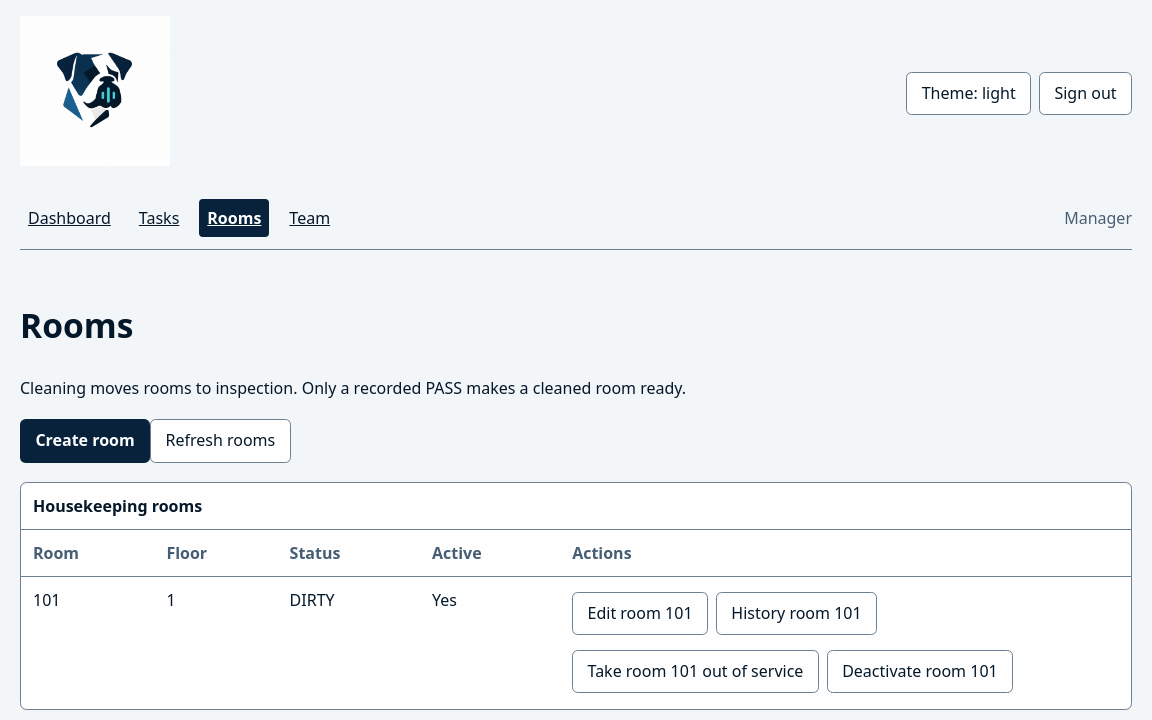
Scenario: Rooms and minimal inspection › reads retained inspection history
What coordinates should you click on to do the following:
click the button "History room 101"
I would click on:
 (797, 614)
Its box is x1=716 y1=592 x2=877 y2=636.
(page scrolled)
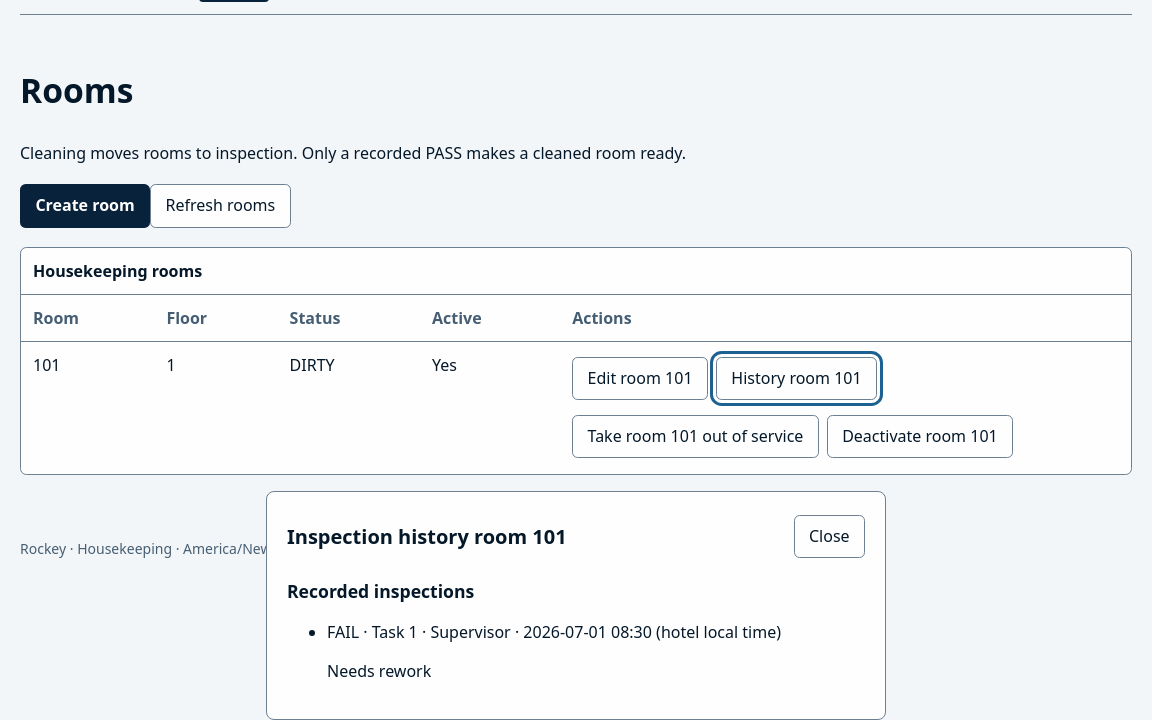
expect the text "Needs rework" is shown: met, box x1=327 y1=660 x2=431 y2=682
